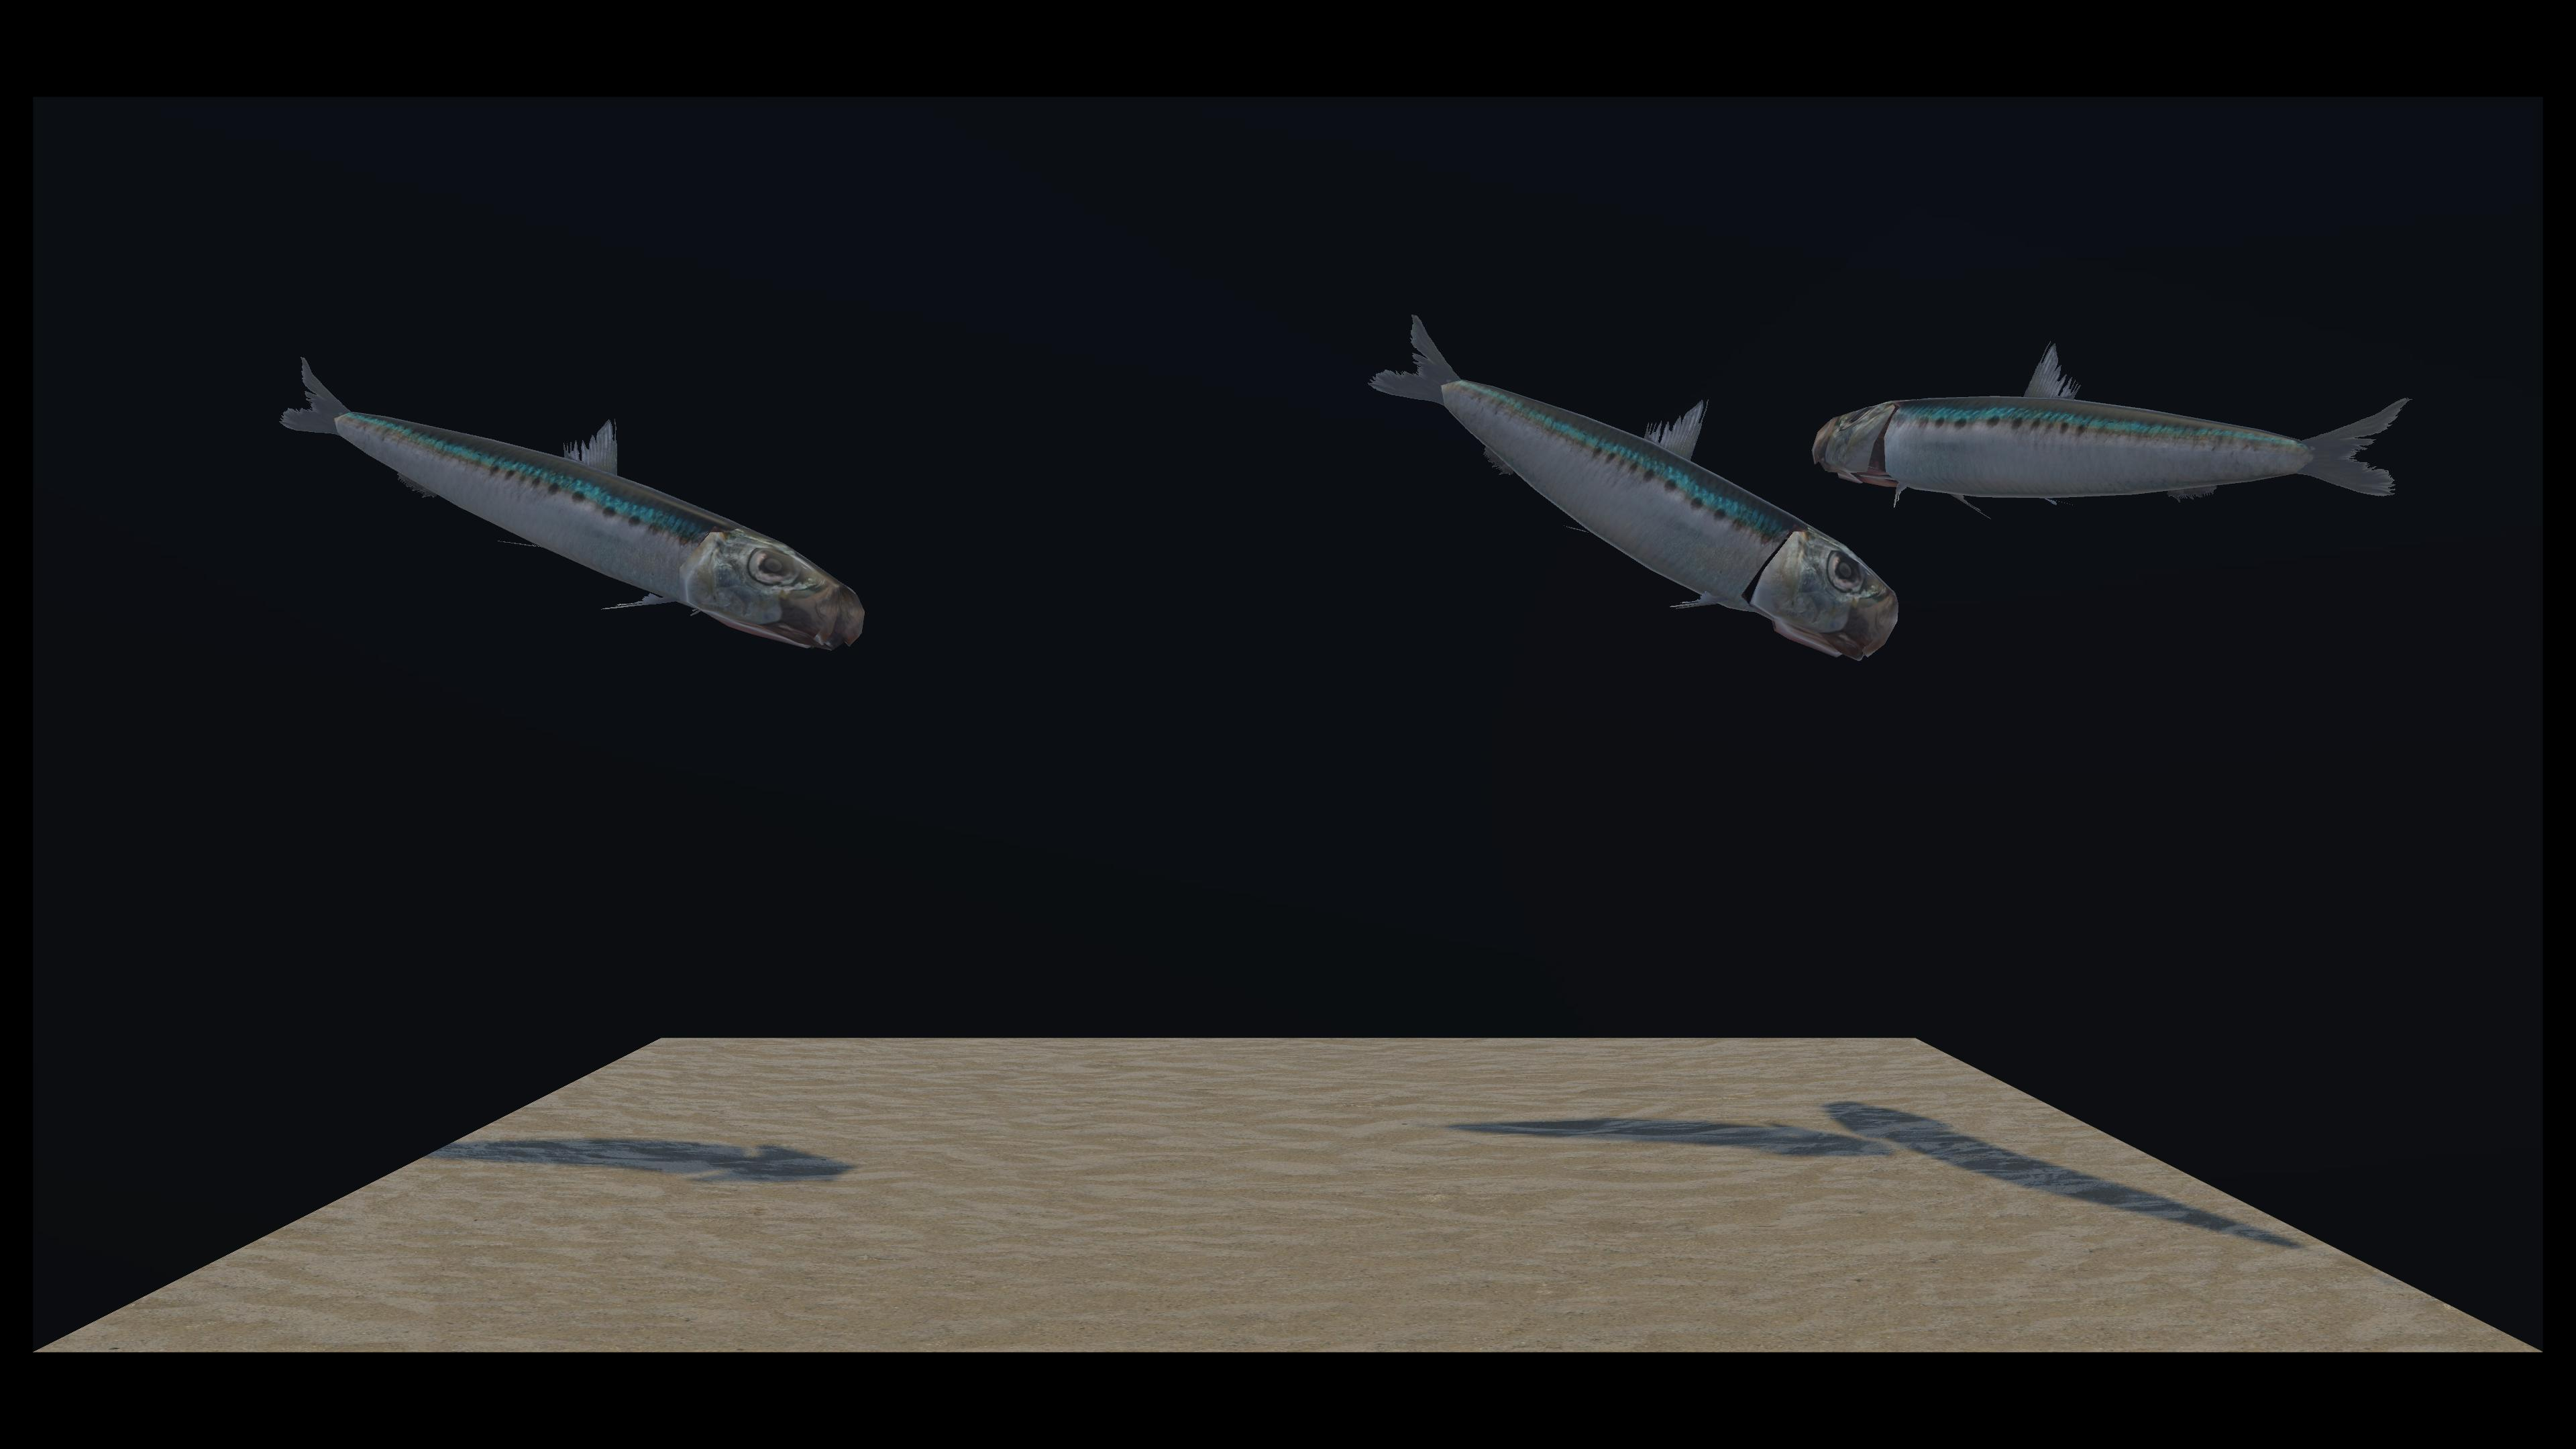Sardine_Front: (771, 317, 1893, 614), (853, 349, 2411, 561), (283, 356, 987, 628)
